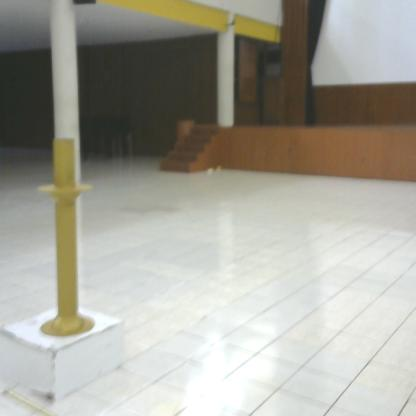pole: (36, 135, 102, 346)
